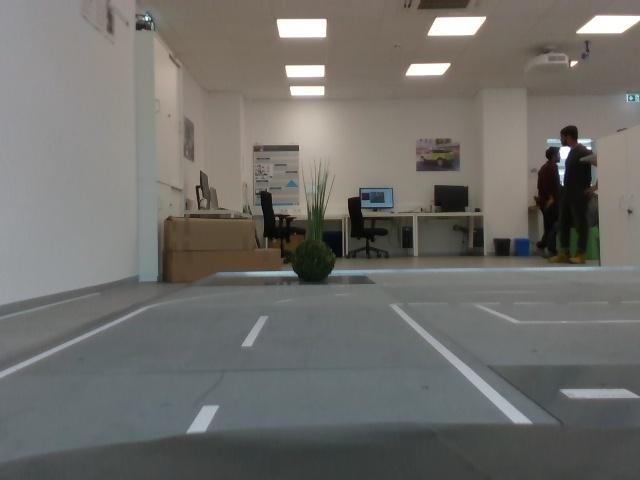potted plant: (300, 156, 338, 235), (293, 240, 346, 285)
